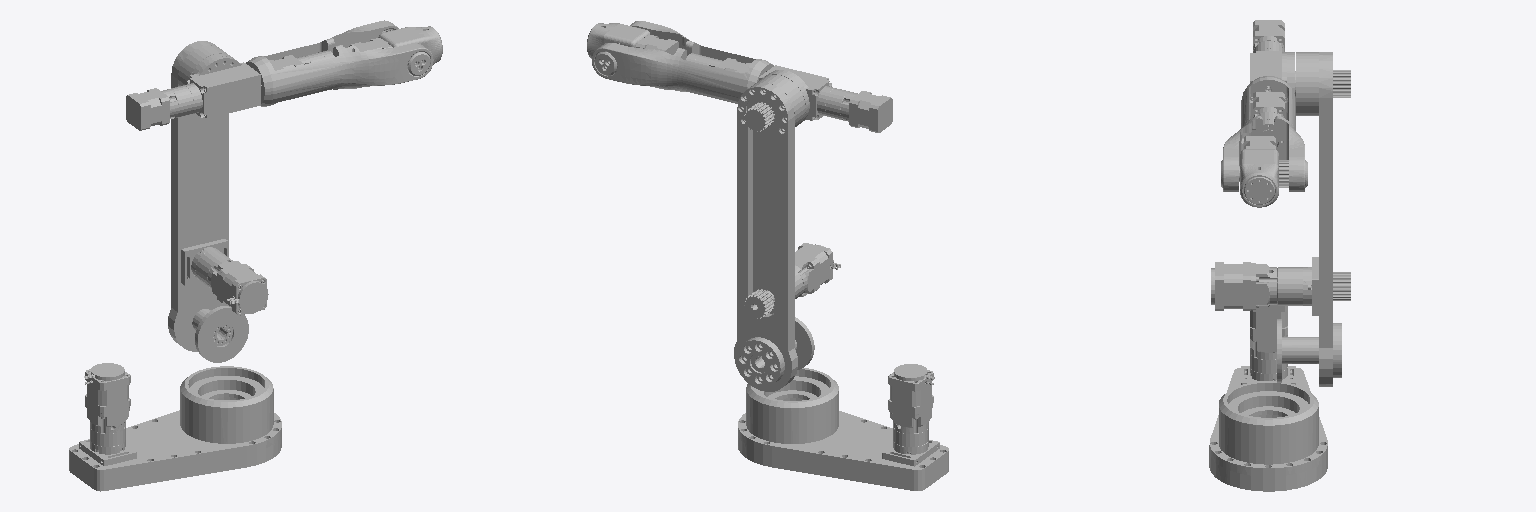
URDF robot description (RoboticArmv2):
<?xml version="1.0" encoding="utf-8"?>
<!-- This URDF was automatically created by SolidWorks to URDF Exporter! Originally created by [author] ([email redacted]) 
     Commit Version: 1.6.0-4-g7f85cfe  Build Version: 1.6.7995.38578
     For more information, please see http://wiki.ros.org/sw_urdf_exporter -->
<robot
  name="RoboticArmv2">
  <link
    name="base_link">
    <inertial>
      <origin
        xyz="-0.038799 5.6771E-08 0.039037"
        rpy="0 0 0" />
      <mass
        value="4.037" />
      <inertia
        ixx="0.0047485"
        ixy="6.9936E-08"
        ixz="2.5452E-06"
        iyy="0.01214"
        iyz="-4.4737E-10"
        izz="0.015979" />
    </inertial>
    <visual>
      <origin
        xyz="0 0 0"
        rpy="0 0 0" />
      <geometry>
        <mesh
          filename="package://arm_control/description/meshes/base_link.STL" />
      </geometry>
      <material
        name="">
        <color
          rgba="0.75294 0.75294 0.75294 1" />
      </material>
    </visual>
    <collision>
      <origin
        xyz="0 0 0"
        rpy="0 0 0" />
      <geometry>
        <mesh
          filename="package://arm_control/description/meshes/base_link.STL" />
      </geometry>
    </collision>
  </link>
  <link
    name="Link1">
    <inertial>
      <origin
        xyz="4.7367E-05 0.10068 0.020948"
        rpy="0 0 0" />
      <mass
        value="0.97007" />
      <inertia
        ixx="0.0010278"
        ixy="-3.2684E-07"
        ixz="-5.2705E-07"
        iyy="0.001187"
        iyz="2.9768E-06"
        izz="0.00070562" />
    </inertial>
    <visual>
      <origin
        xyz="0 0 0"
        rpy="0 0 0" />
      <geometry>
        <mesh
          filename="package://arm_control/description/meshes/Link1.STL" />
      </geometry>
      <material
        name="">
        <color
          rgba="0.75294 0.75294 0.75294 1" />
      </material>
    </visual>
    <collision>
      <origin
        xyz="0 0 0"
        rpy="0 0 0" />
      <geometry>
        <mesh
          filename="package://arm_control/description/meshes/Link1.STL" />
      </geometry>
    </collision>
  </link>
  <joint
    name="J1"
    type="revolute">
    <origin
      xyz="0 0 0.0059964"
      rpy="1.5708 0 0" />
    <parent
      link="base_link" />
    <child
      link="Link1" />
    <axis
      xyz="0 -1 0" />
    <limit
      lower="-3.14"
      upper="3.14"
      effort="10"
      velocity="10" />
  </joint>
  <link
    name="Link2">
    <inertial>
      <origin
        xyz="-1.46417876076469E-06 0.117729185705366 -0.0378668860722142"
        rpy="0 0 0" />
      <mass
        value="0.577415758791343" />
      <inertia
        ixx="0.0036047406071256"
        ixy="6.4776030540196E-08"
        ixz="1.20114307201048E-07"
        iyy="0.000412136925722125"
        iyz="-1.52201263463148E-05"
        izz="0.00360983067595921" />
    </inertial>
    <visual>
      <origin
        xyz="0 0 0"
        rpy="0 0 0" />
      <geometry>
        <mesh
          filename="package://arm_control/description/meshes/Link2.STL" />
      </geometry>
      <material
        name="">
        <color
          rgba="0.752941176470588 0.752941176470588 0.752941176470588 1" />
      </material>
    </visual>
    <collision>
      <origin
        xyz="0 0 0"
        rpy="0 0 0" />
      <geometry>
        <mesh
          filename="package://arm_control/description/meshes/Link2.STL" />
      </geometry>
    </collision>
  </link>
  <joint
    name="J2"
    type="revolute">
    <origin
      xyz="0 0.134 0"
      rpy="0 0 0" />
    <parent
      link="Link1" />
    <child
      link="Link2" />
    <axis
      xyz="0 0 -1" />
    <limit
      lower="-1.57"
      upper="1.57"
      effort="0"
      velocity="0" />
  </joint>
  <link
    name="Link3">
    <inertial>
      <origin
        xyz="-0.0328882111255075 8.45678153449381E-07 -0.0129958354849986"
        rpy="0 0 0" />
      <mass
        value="0.251663957012598" />
      <inertia
        ixx="6.72067273429369E-05"
        ixy="4.83904268931055E-09"
        ixz="-2.18784718458254E-08"
        iyy="0.000125285505512965"
        iyz="3.49876261972673E-15"
        izz="0.000132327236956115" />
    </inertial>
    <visual>
      <origin
        xyz="0 0 0"
        rpy="0 0 0" />
      <geometry>
        <mesh
          filename="package://arm_control/description/meshes/Link3.STL" />
      </geometry>
      <material
        name="">
        <color
          rgba="0.752941176470588 0.752941176470588 0.752941176470588 1" />
      </material>
    </visual>
    <collision>
      <origin
        xyz="0 0 0"
        rpy="0 0 0" />
      <geometry>
        <mesh
          filename="package://arm_control/description/meshes/Link3.STL" />
      </geometry>
    </collision>
  </link>
  <joint
    name="J3"
    type="revolute">
    <origin
      xyz="0 0.322 0"
      rpy="0 0 0" />
    <parent
      link="Link2" />
    <child
      link="Link3" />
    <axis
      xyz="0 0 -1" />
    <limit
      lower="0"
      upper="3.14"
      effort="10"
      velocity="10" />
  </joint>
  <link
    name="Link4">
    <inertial>
      <origin
        xyz="0.099774322521478 -0.000172379735017603 0.00118588583890608"
        rpy="0 0 0" />
      <mass
        value="0.356013835274962" />
      <inertia
        ixx="0.000270166646517537"
        ixy="-2.8024785401758E-07"
        ixz="-2.10227432082948E-05"
        iyy="0.00116383385329662"
        iyz="-8.06758147658775E-08"
        izz="0.000994142094397537" />
    </inertial>
    <visual>
      <origin
        xyz="0 0 0"
        rpy="0 0 0" />
      <geometry>
        <mesh
          filename="package://arm_control/description/meshes/Link4.STL" />
      </geometry>
      <material
        name="">
        <color
          rgba="0.752941176470588 0.752941176470588 0.752941176470588 1" />
      </material>
    </visual>
    <collision>
      <origin
        xyz="0 0 0"
        rpy="0 0 0" />
      <geometry>
        <mesh
          filename="package://arm_control/description/meshes/Link4.STL" />
      </geometry>
    </collision>
  </link>
  <joint
    name="J4"
    type="revolute">
    <origin
      xyz="0.03 0 0"
      rpy="0 0 0" />
    <parent
      link="Link3" />
    <child
      link="Link4" />
    <axis
      xyz="1 0 0" />
    <limit
      lower="-3.14"
      upper="3.14"
      effort="10"
      velocity="10" />
  </joint>
  <link
    name="Link5">
    <inertial>
      <origin
        xyz="-0.00745918037903059 1.44166386780165E-05 -0.00833926520904369"
        rpy="0 0 0" />
      <mass
        value="0.175482504091363" />
      <inertia
        ixx="5.10545535580843E-05"
        ixy="-5.97452165278952E-08"
        ixz="1.44581078477868E-06"
        iyy="0.000107503817667908"
        iyz="5.76444930838975E-09"
        izz="0.000100856356891325" />
    </inertial>
    <visual>
      <origin
        xyz="0 0 0"
        rpy="0 0 0" />
      <geometry>
        <mesh
          filename="package://arm_control/description/meshes/Link5.STL" />
      </geometry>
      <material
        name="">
        <color
          rgba="0.752941176470588 0.752941176470588 0.752941176470588 1" />
      </material>
    </visual>
    <collision>
      <origin
        xyz="0 0 0"
        rpy="0 0 0" />
      <geometry>
        <mesh
          filename="package://arm_control/description/meshes/Link5.STL" />
      </geometry>
    </collision>
  </link>
  <joint
    name="J5"
    type="revolute">
    <origin
      xyz="0.20275 0 0"
      rpy="3.1416 0 0" />
    <parent
      link="Link4" />
    <child
      link="Link5" />
    <axis
      xyz="0 0 -1" />
    <limit
      lower="-1.57"
      upper="1.57"
      effort="10"
      velocity="10" />
  </joint>
  <link
    name="Link6">
    <inertial>
      <origin
        xyz="0.00833988976417116 0.000113774503086972 -1.32769045757541E-10"
        rpy="0 0 0" />
      <mass
        value="0.0135263682638669" />
      <inertia
        ixx="2.02217071919662E-06"
        ixy="5.87479646435333E-09"
        ixz="-8.97698504642466E-15"
        iyy="1.3204524747585E-06"
        iyz="-1.52963229446115E-14"
        izz="1.3036592664547E-06" />
    </inertial>
    <visual>
      <origin
        xyz="0 0 0"
        rpy="0 0 0" />
      <geometry>
        <mesh
          filename="package://arm_control/description/meshes/Link6.STL" />
      </geometry>
      <material
        name="">
        <color
          rgba="0.752941176470588 0.752941176470588 0.752941176470588 1" />
      </material>
    </visual>
    <collision>
      <origin
        xyz="0 0 0"
        rpy="0 0 0" />
      <geometry>
        <mesh
          filename="package://arm_control/description/meshes/Link6.STL" />
      </geometry>
    </collision>
  </link>
  <joint
    name="J6"
    type="revolute">
    <origin
      xyz="0.02825 0 -0.01"
      rpy="-3.1416 0 0" />
    <parent
      link="Link5" />
    <child
      link="Link6" />
    <axis
      xyz="1 0 0" />
    <limit
      lower="-3.14"
      upper="3.14"
      effort="10"
      velocity="10" />
  </joint>
</robot>

--- What the picture shows (computed from the rendered views, not written in the file) ---
The picture shows the robot from 3 angles, left to right: view 1: azimuth 30°, elevation 25°; view 2: azimuth 150°, elevation 25°; view 3: azimuth 270°, elevation 25°; orthographic projection.
Robot: RoboticArmv2 — 7 links, 6 joints (6 revolute); root link base_link; default pose: every joint at zero.
Visible links, largest first — view 1: base_link, Link2, Link4, Link3, Link5; view 2: Link2, base_link, Link4, Link3, Link5; view 3: base_link, Link2, Link4, Link3, Link5, Link6.
Link boxes in pixels (x1,y1,x2,y2): base_link: (69,363,281,491); Link2: (168,41,268,362); Link4: (246,20,433,106); Link3: (126,54,260,130); Link5: (349,26,442,75); Link2: (734,75,840,391); base_link: (738,364,948,490); Link4: (592,21,773,103); Link3: (744,65,892,132); Link5: (587,23,678,75); base_link: (1209,305,1327,491); Link2: (1211,52,1350,386); Link4: (1223,76,1304,191); Link3: (1250,20,1350,97); Link5: (1221,136,1307,207); Link6: (1244,177,1274,204).
Bounding box of the posed robot: 0.4745 × 0.1544 × 0.497 m (x, y, z).
Meshes: 7 distinct files referenced, 6 mesh visuals loaded (6 binary STL); not drawn: 1 (reference not matched to a file when rendering).